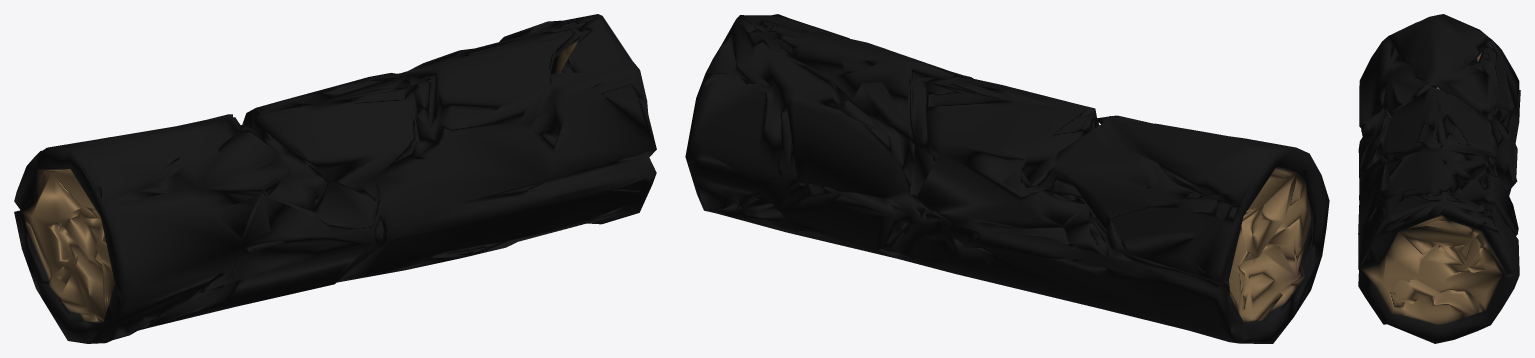
Rendered from gen3d-charred-log-lod0.glb.
The picture shows the model from 3 angles, left to right: view 1: azimuth 30°, elevation 25°; view 2: azimuth 150°, elevation 25°; view 3: azimuth 270°, elevation 25°; orthographic projection. The views are drawn at different scales.
Visible parts, largest first — view 1: part_0; view 2: part_0; view 3: part_0.
Boxes of the visible parts, x1=… form: part_0: x1=14, y1=14, x2=656, y2=343; part_0: x1=685, y1=14, x2=1329, y2=343; part_0: x1=1358, y1=14, x2=1520, y2=343.
Bounding box in the file's own units: 2.83 × 0.9921 × 1.02.
